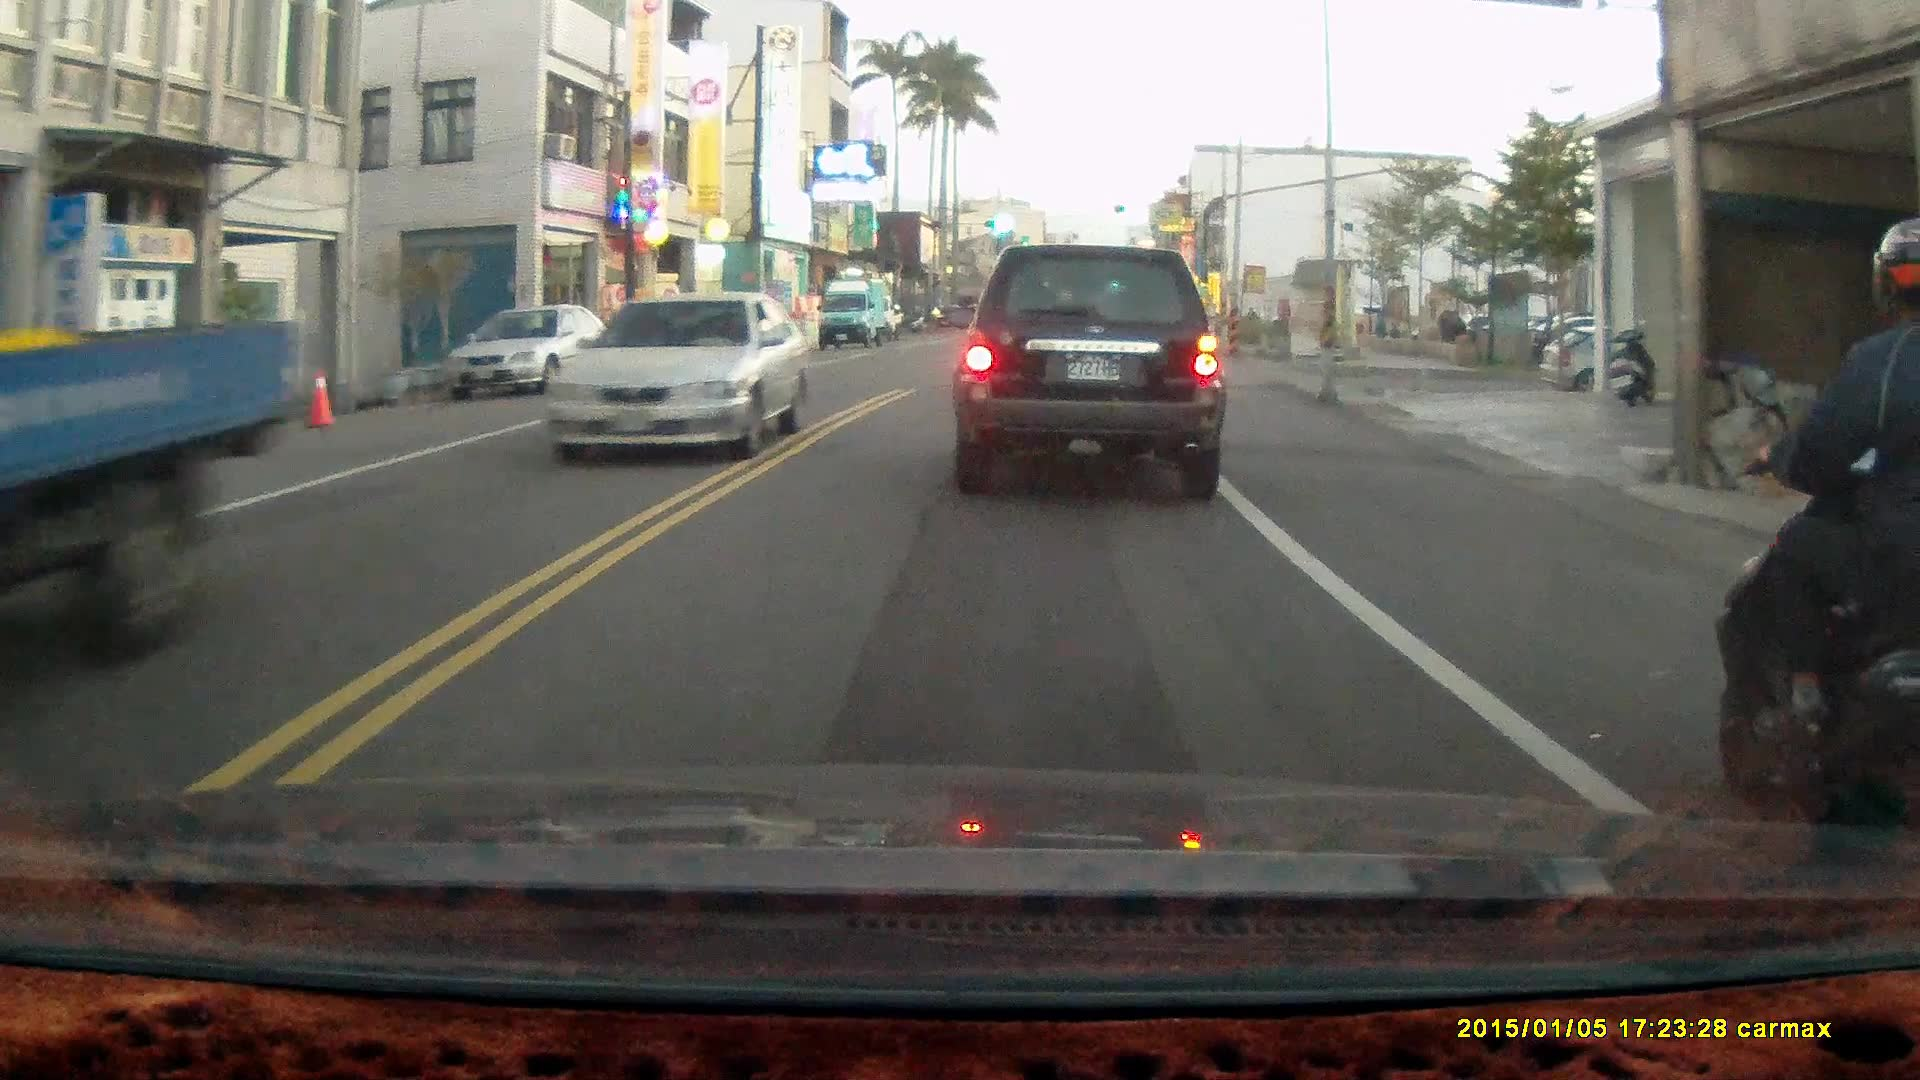rider: (1709, 212, 1919, 894)
vehicle: (1, 317, 301, 661), (951, 241, 1230, 499), (542, 287, 807, 469), (438, 306, 619, 399), (1535, 327, 1741, 403), (819, 278, 896, 352)
